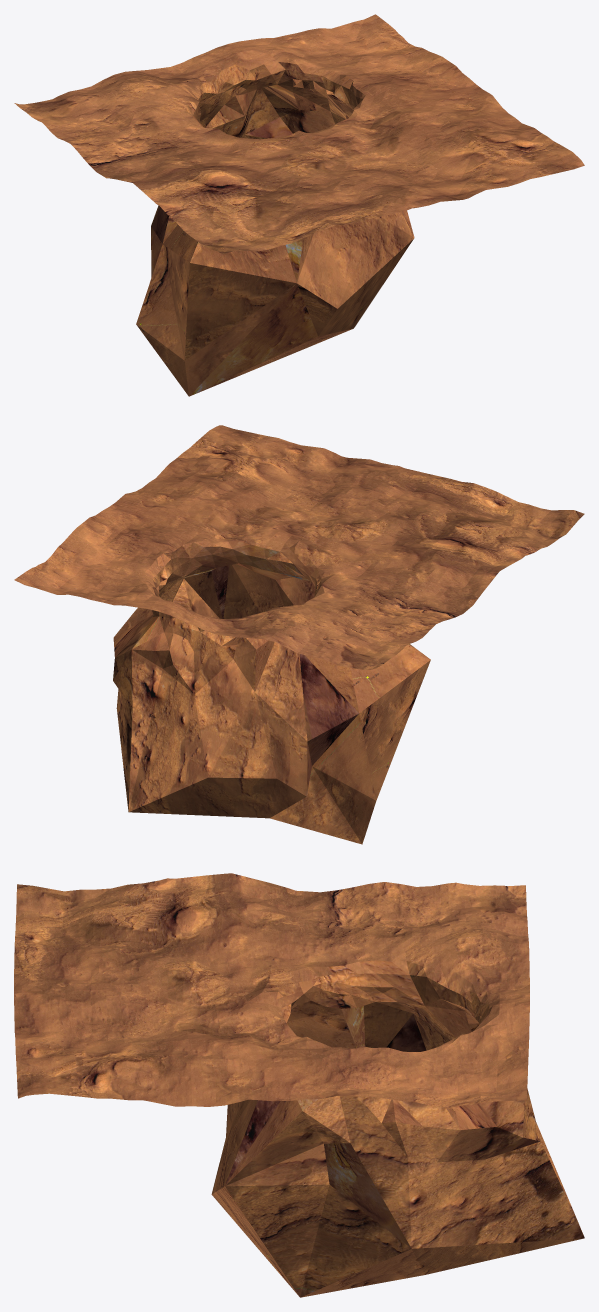
The model's file is teren_crater_color.dae.
3 views of the same model, one above another, from view 1: azimuth 30°, elevation 25°; view 2: azimuth 150°, elevation 25°; view 3: azimuth 270°, elevation 25° (orthographic). The views are drawn at different scales.
Parts seen in each view (by area): view 1: Terrain; view 2: Terrain; view 3: Terrain.
Boxes of the visible parts, x1,y1,x2,y2 form: Terrain: (14,14,584,396); Terrain: (14,425,584,844); Terrain: (14,873,584,1297).
Size of the model in its own units: 26.85 by 29.7 by 18.73.
1 material, 1 textured.
